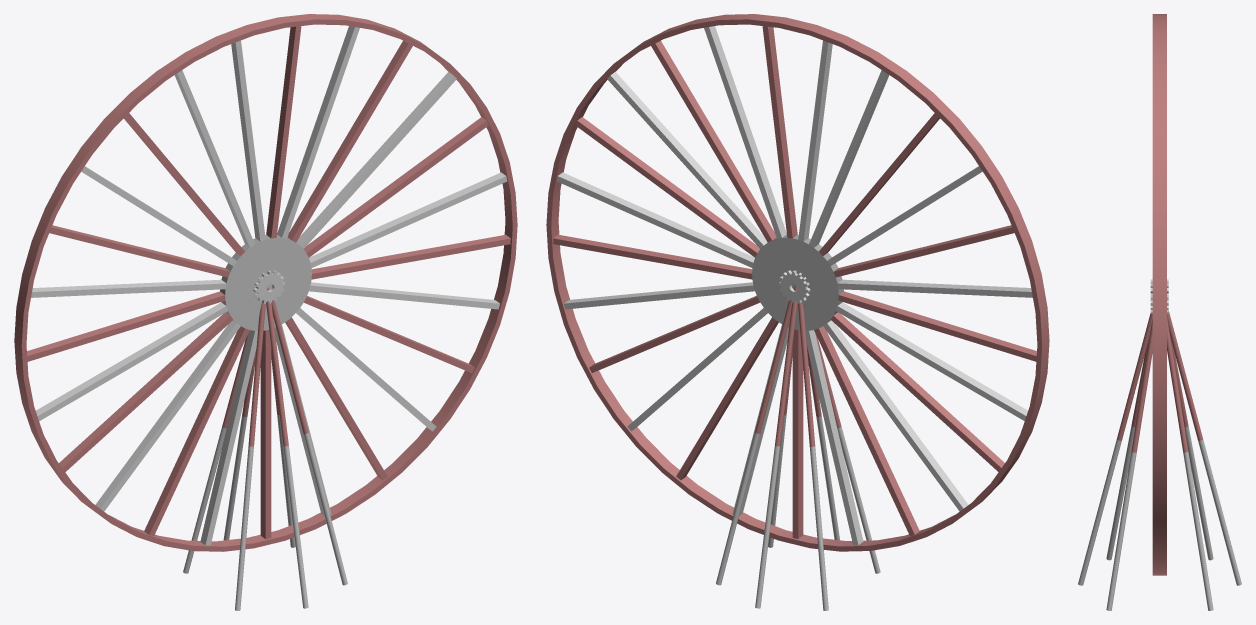
File: FerrisWheel.fbx
3 renders of one model, left to right at view 1: azimuth 30°, elevation 25°; view 2: azimuth 150°, elevation 25°; view 3: azimuth 270°, elevation 25°, orthographic.
Visible parts, largest first — view 1: FerrisWheel2; view 2: FerrisWheel2; view 3: FerrisWheel2.
Boxes of the visible parts, box(x1,y1,x2,y2) form: FerrisWheel2: box(14, 14, 517, 610); FerrisWheel2: box(546, 14, 1049, 610); FerrisWheel2: box(1078, 14, 1241, 610).
Size of the model in its own units: 38.93 by 41.62 by 11.36.
